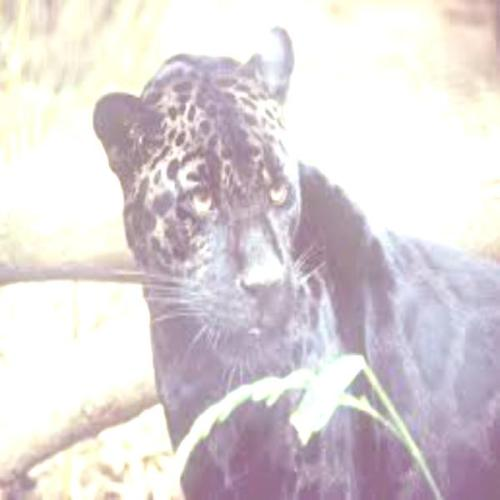panther-endangered: (116, 62, 500, 496)
